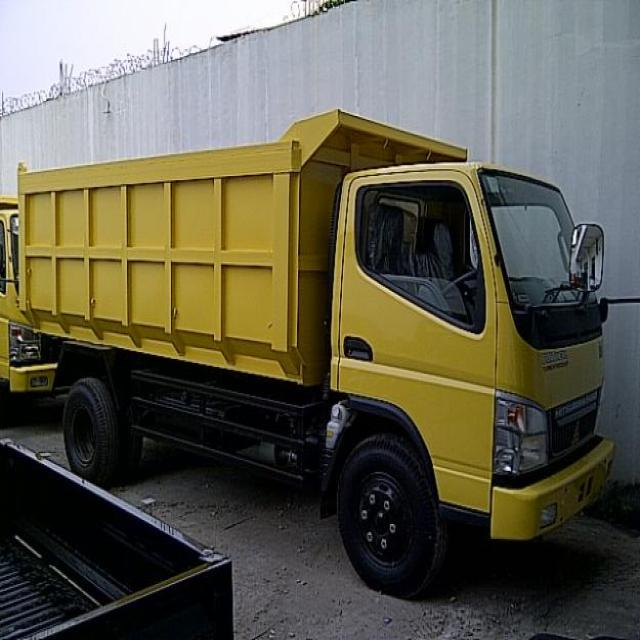truck: (17, 108, 616, 589)
